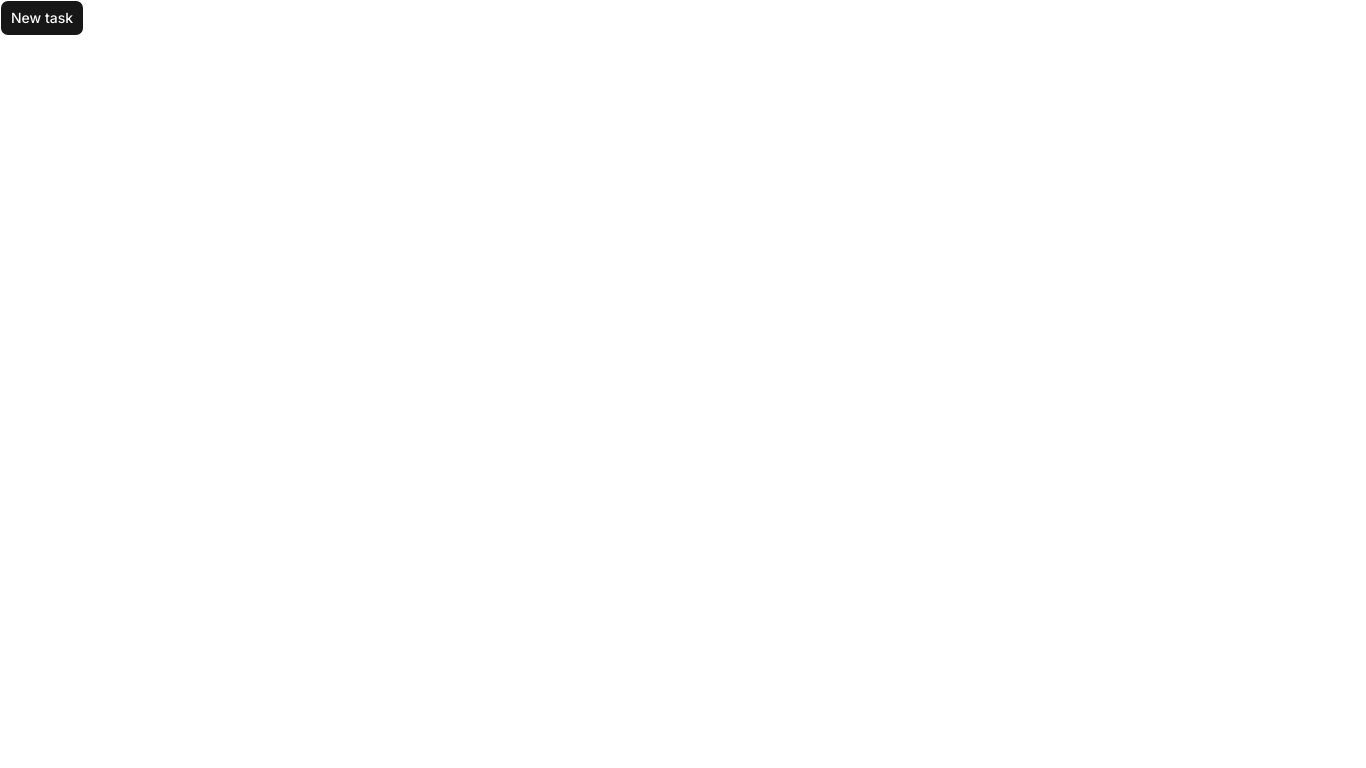
Test: the agents' approval mode beside New task's Send › is confirmed before Auto, and the task being written stays as it was
The image size is (1366, 768).
Click the button "New task" at (42, 18), box x1=0 y1=0 x2=84 y2=36
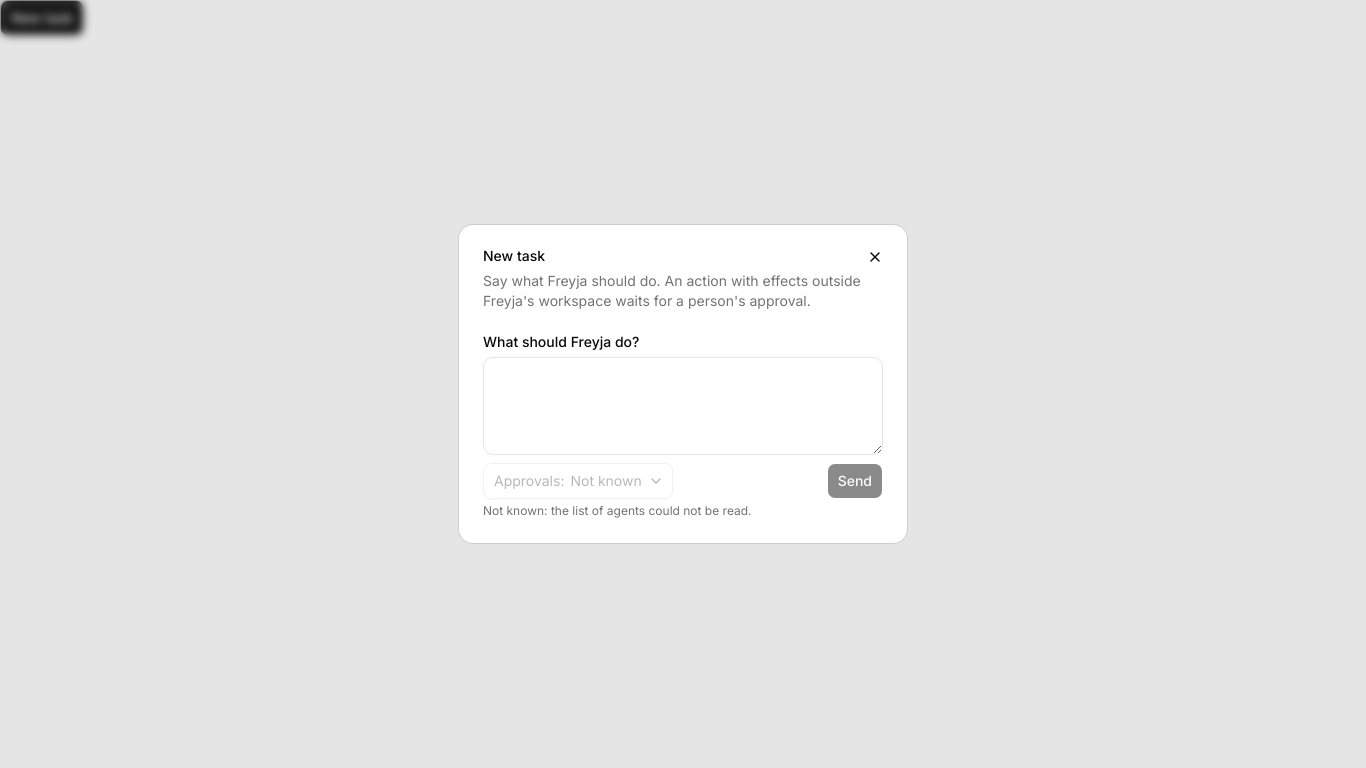
Type "Summarize the week." into the text box labelled "What should Freyja do?" at (683, 406), box x1=483 y1=357 x2=883 y2=455
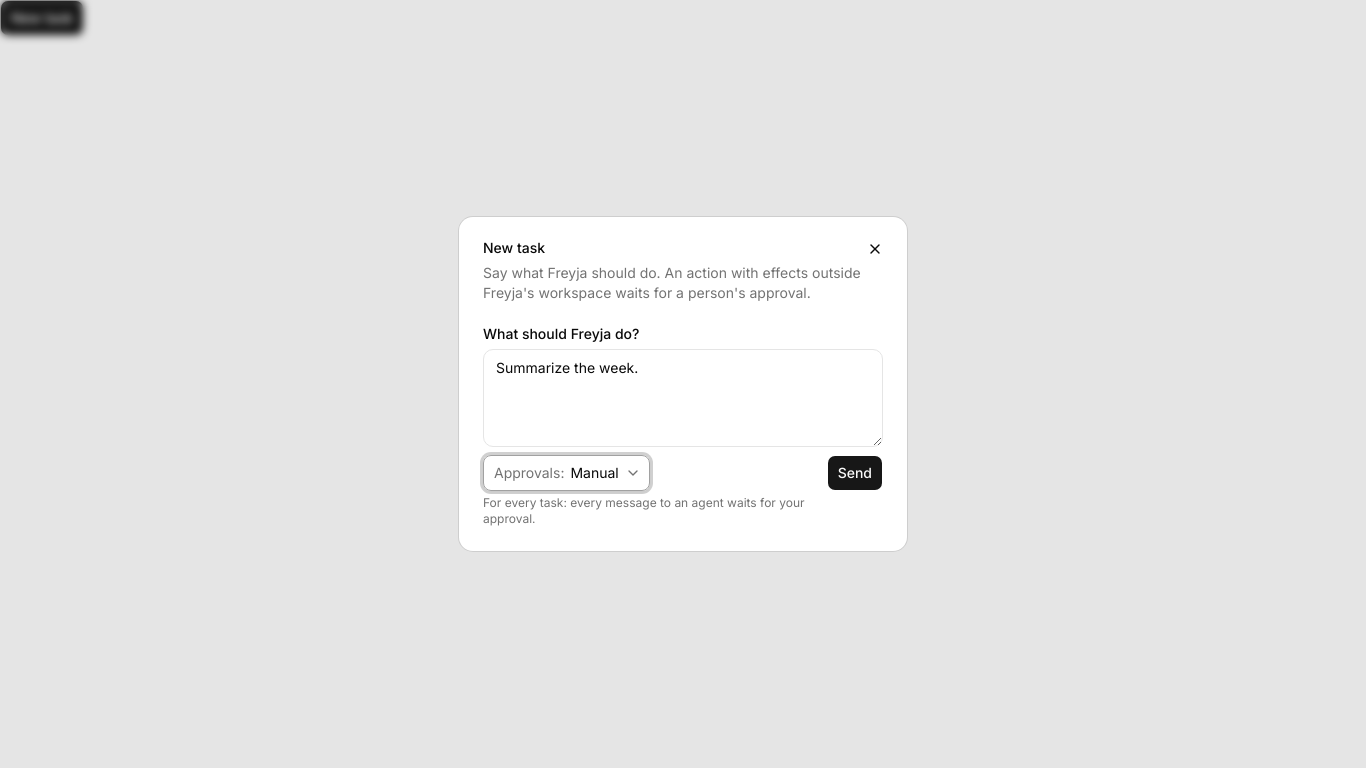
Now the dropdown named "Agent approvals" shows "Manual"
Press ArrowDown in the dropdown named "Agent approvals", box x1=483 y1=455 x2=650 y2=491
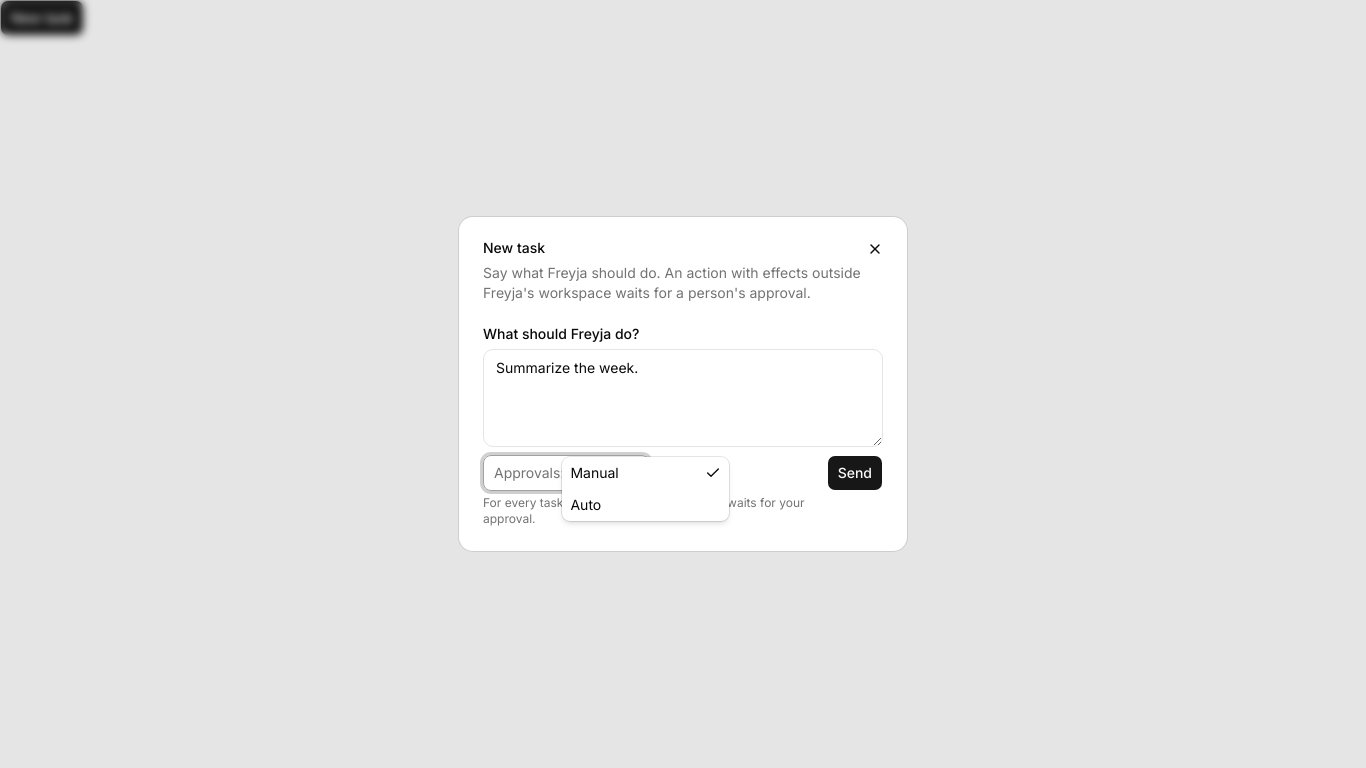
Press Enter in the option "Auto", box x1=570 y1=496 x2=601 y2=513
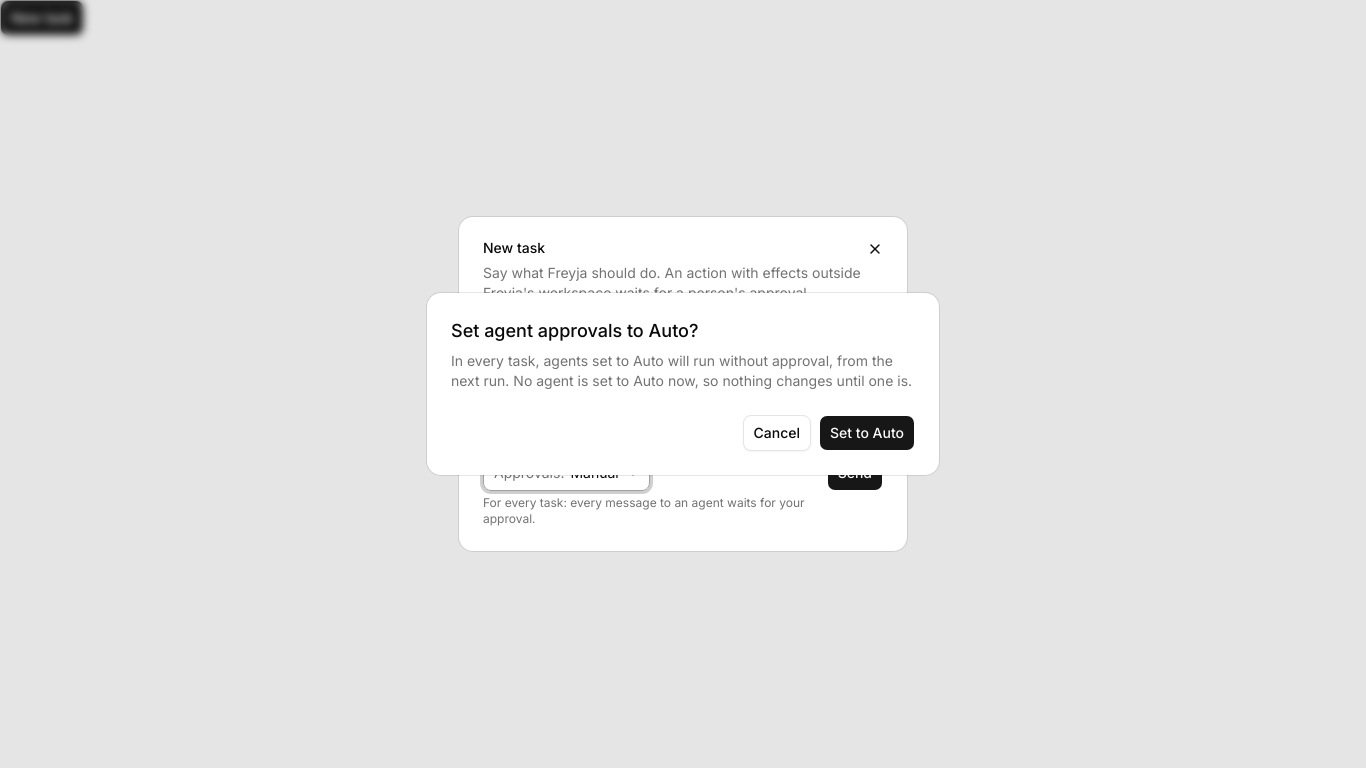
Now the dialog "Set agent approvals to Auto?" shows "In every task", box x1=451 y1=352 x2=893 y2=389
Click the button "Set to Auto" at (867, 433), box x1=819 y1=415 x2=915 y2=451
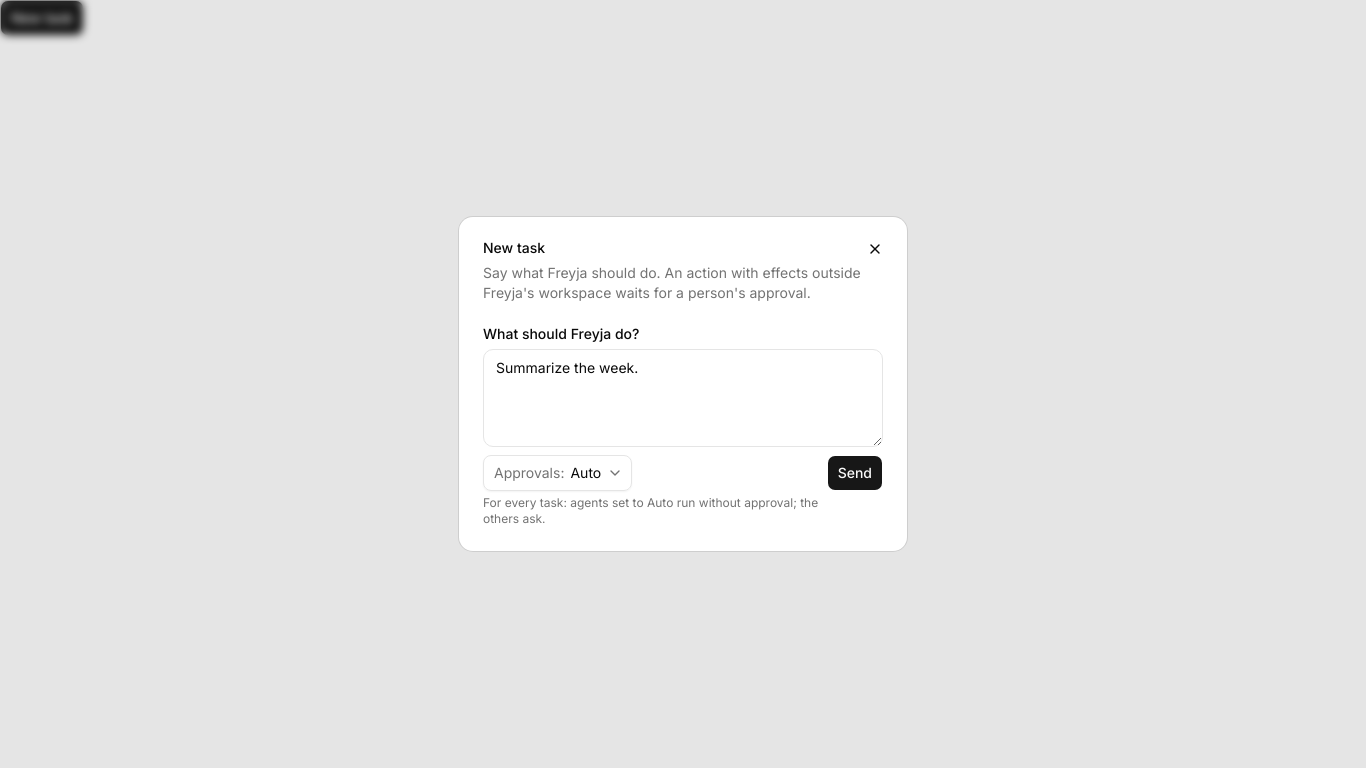
Now the dialog "New task" is shown, box x1=459 y1=217 x2=907 y2=551
Now the dropdown named "Agent approvals" shows "Auto", box x1=483 y1=455 x2=632 y2=491
